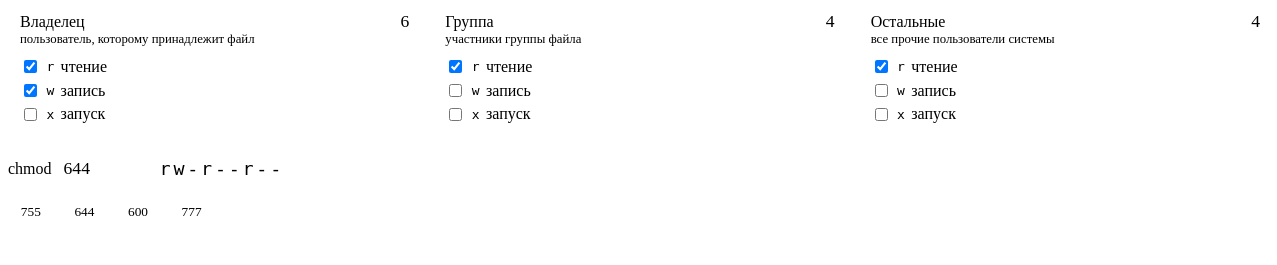
Test: invalid input shows friendly error and keeps previous state
Replace the text in the field named "восьмеричные права" with "9". click: (100, 169)
box: x1=56 y1=154 x2=144 y2=183
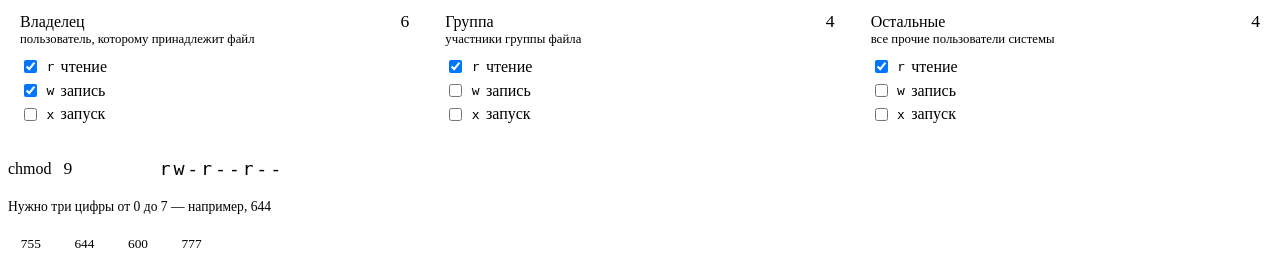
expect the text "rw-r--r--" is shown: met, box x1=160 y1=158 x2=284 y2=179
expect the text "Нужно три цифры от 0 до 7 — например, 644" is shown: met, box x1=8 y1=199 x2=271 y2=214
